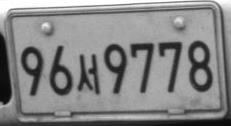6: (48, 44, 73, 96)
7: (157, 41, 183, 93), (130, 41, 155, 93)
8: (187, 39, 213, 93)
9: (102, 42, 129, 93), (20, 45, 44, 96)
서: (76, 53, 101, 94)
